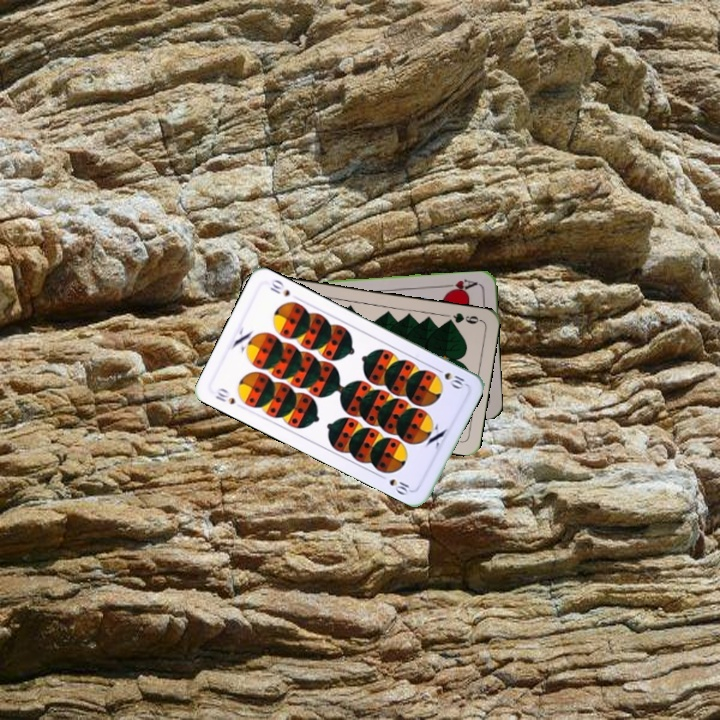G9: (442, 309, 484, 327)
HA: (440, 275, 479, 295)
S10: (431, 364, 467, 391), (211, 384, 238, 407)
